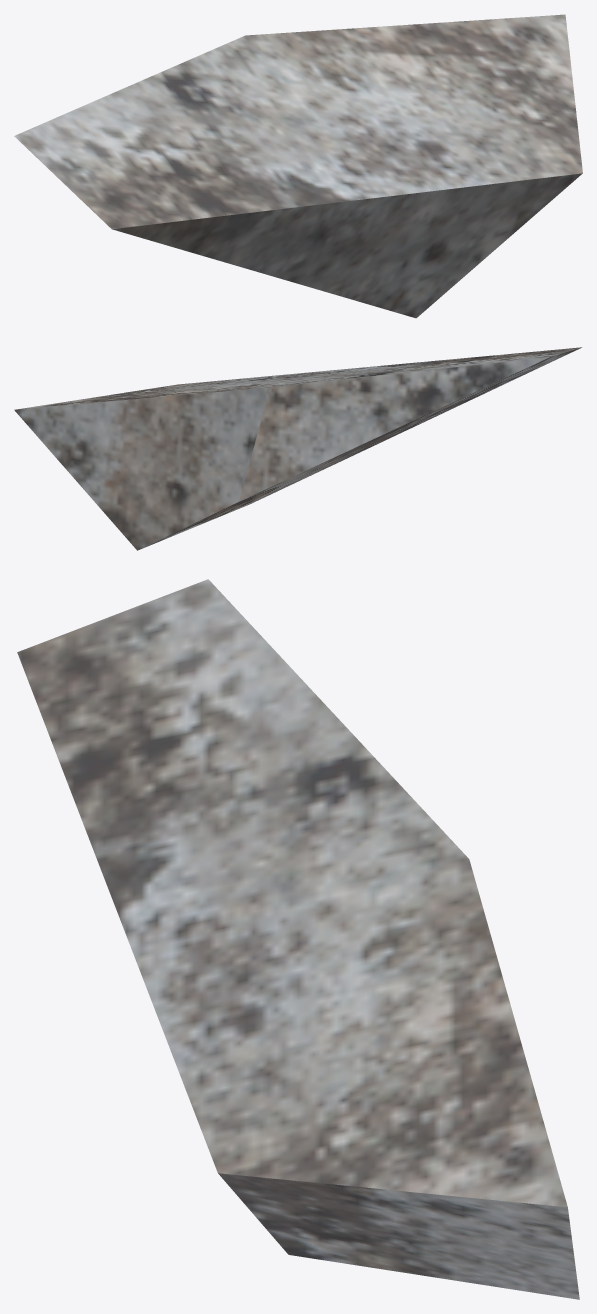
Rendered from Asteroid_Large_001_02_012_03_025.fbx.
3 renders of one model, top to bottom at view 1: azimuth 30°, elevation 25°; view 2: azimuth 150°, elevation 25°; view 3: azimuth 270°, elevation 25°, orthographic. The views are drawn at different scales.
Visible parts, largest first — view 1: Asteroid_Large_001_02_012_03_025; view 2: Asteroid_Large_001_02_012_03_025; view 3: Asteroid_Large_001_02_012_03_025.
Part boxes in pixels (box(x1,y1,x2,y2)): Asteroid_Large_001_02_012_03_025: box(14, 14, 582, 318); Asteroid_Large_001_02_012_03_025: box(14, 347, 581, 550); Asteroid_Large_001_02_012_03_025: box(17, 579, 579, 1299).
Size of the model in its own units: 6.51 by 2.84 by 3.55.
